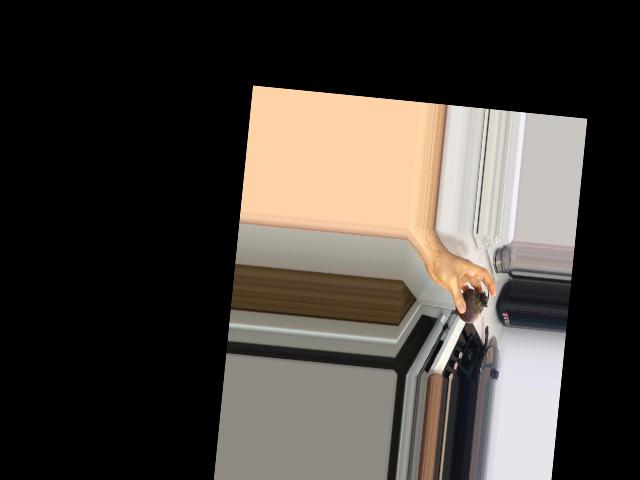beet: (448, 277, 489, 325)
